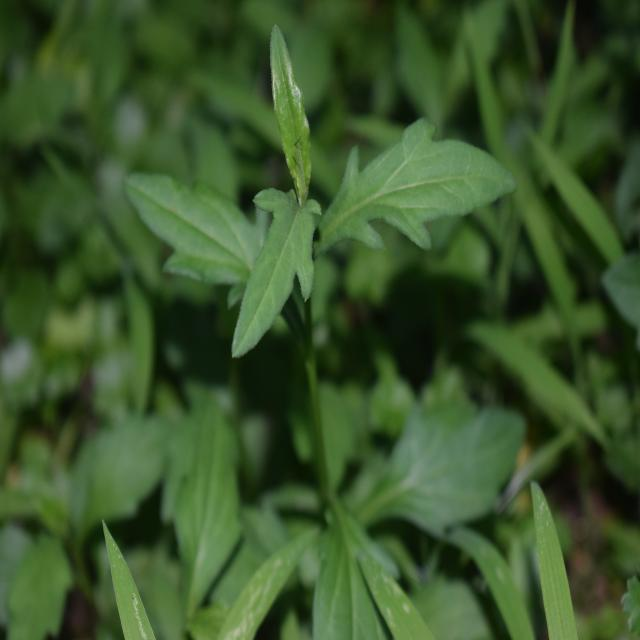Indian aster: (137, 50, 490, 601)
